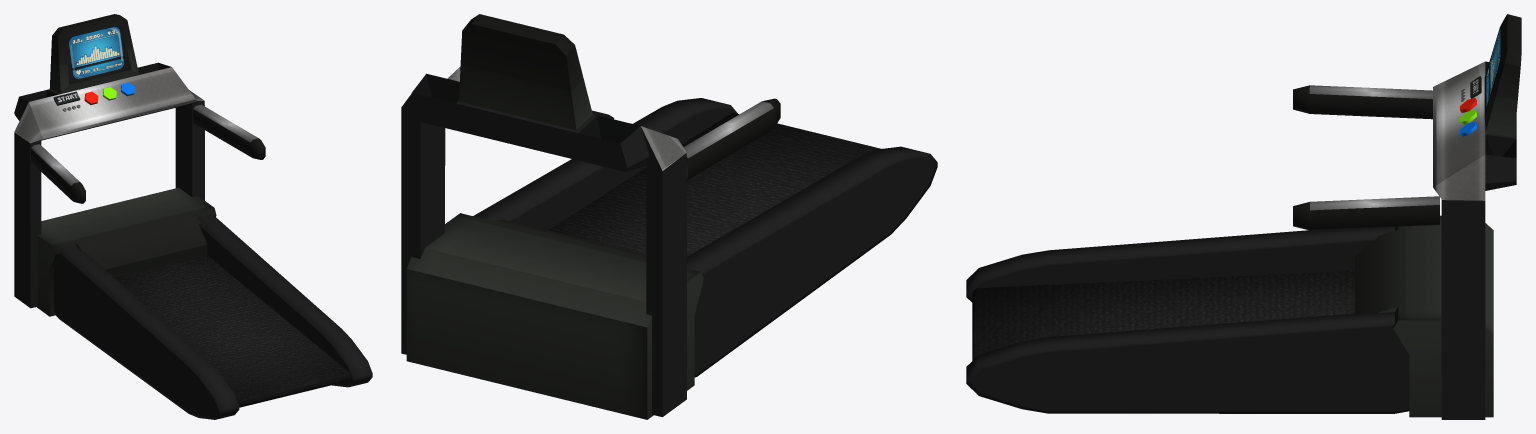
The model's file is Treadmill.FBX.
The picture shows the model from 3 angles, left to right: view 1: azimuth 30°, elevation 25°; view 2: azimuth 150°, elevation 25°; view 3: azimuth 270°, elevation 25°; orthographic projection. The views are drawn at different scales.
Visible parts, largest first — view 1: Treadmill; view 2: Treadmill; view 3: Treadmill.
Boxes of the visible parts, x1=… form: Treadmill: x1=14, y1=14, x2=372, y2=419; Treadmill: x1=401, y1=14, x2=937, y2=419; Treadmill: x1=966, y1=14, x2=1521, y2=419.
Size of the model in its own units: 167 by 209 by 318.
